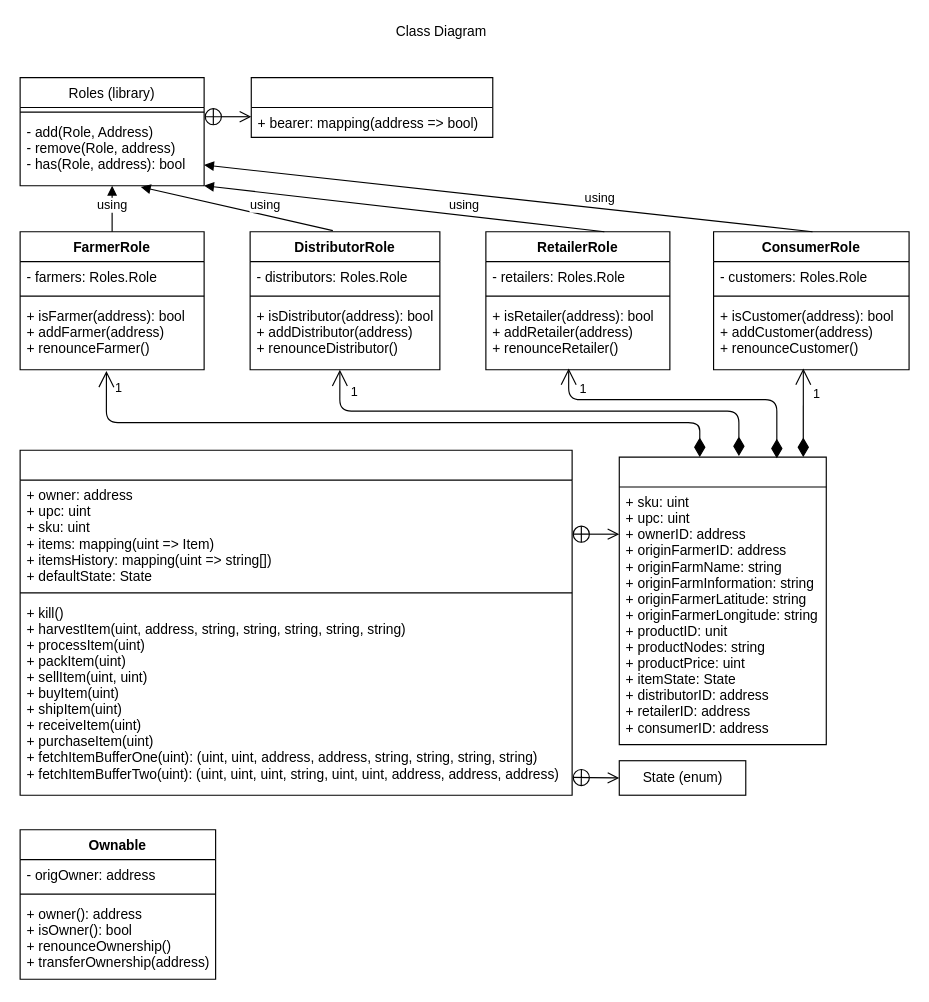
This 929x1002 diagram has some shape labels left out. The box of each missing label's shape, as (x1, y1, x2, y2) in pixels:
Item (struct): (618, 456, 826, 745)
Role (struct): (250, 76, 493, 137)
SupplyChain: (19, 449, 572, 795)
